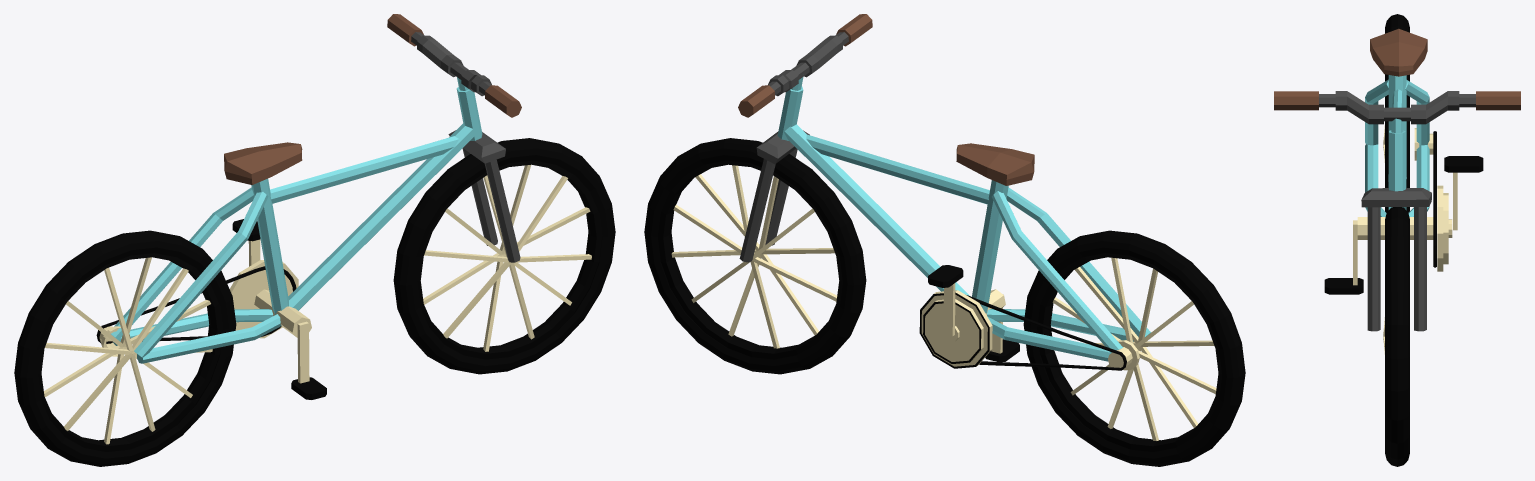
Rendered from Bicycle.fbx.
3 renders of one model, left to right at view 1: azimuth 30°, elevation 25°; view 2: azimuth 150°, elevation 25°; view 3: azimuth 270°, elevation 25°, orthographic. The views are drawn at different scales.
Parts seen in each view (by area): view 1: Bicycle; view 2: Bicycle; view 3: Bicycle.
Part boxes in pixels (box(x1,y1,x2,y2)): Bicycle: box(14, 14, 615, 466); Bicycle: box(644, 14, 1245, 466); Bicycle: box(1274, 14, 1520, 466).
Bounding box in the file's own units: 341 × 177 × 117.
